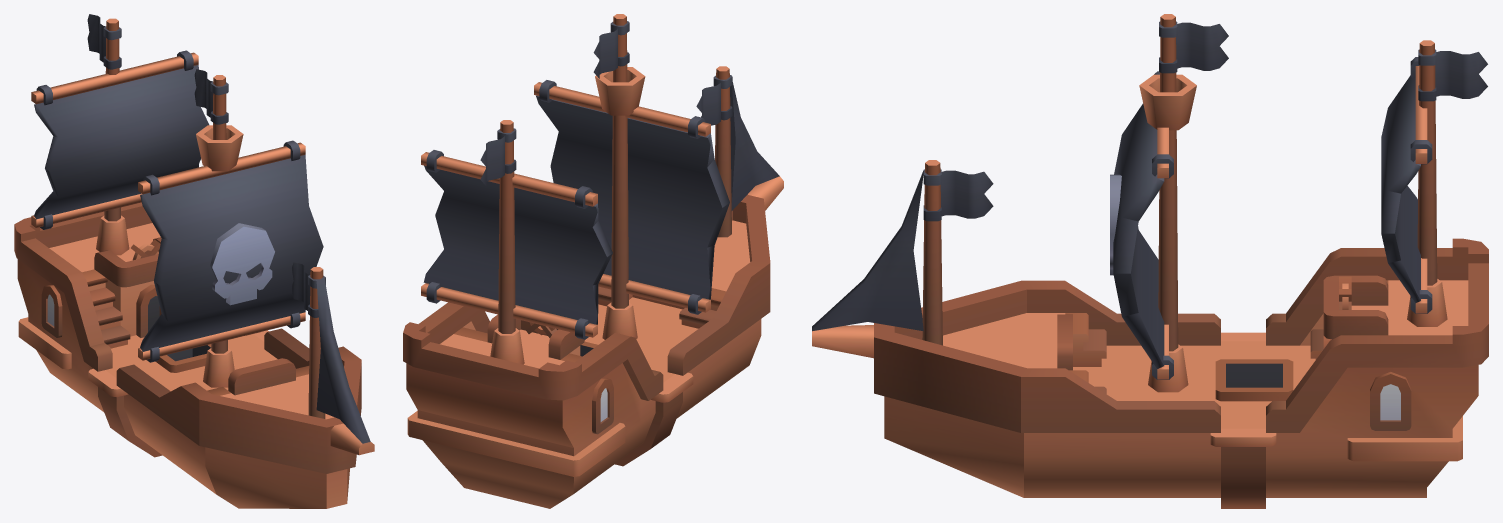
File: ship-pirate-large.glb
3 views of the same model, side by side, from view 1: azimuth 30°, elevation 25°; view 2: azimuth 150°, elevation 25°; view 3: azimuth 270°, elevation 25° (orthographic). The views are drawn at different scales.
Visible parts, largest first — view 1: ship-pirate-large; view 2: ship-pirate-large; view 3: ship-pirate-large.
Part boxes in pixels (box(x1,y1,x2,y2)): ship-pirate-large: box(14, 14, 374, 508); ship-pirate-large: box(403, 14, 783, 508); ship-pirate-large: box(812, 14, 1488, 508).
Bounding box in the file's own units: 4.8 × 9.96 × 13.1.
1 material, 1 textured.
